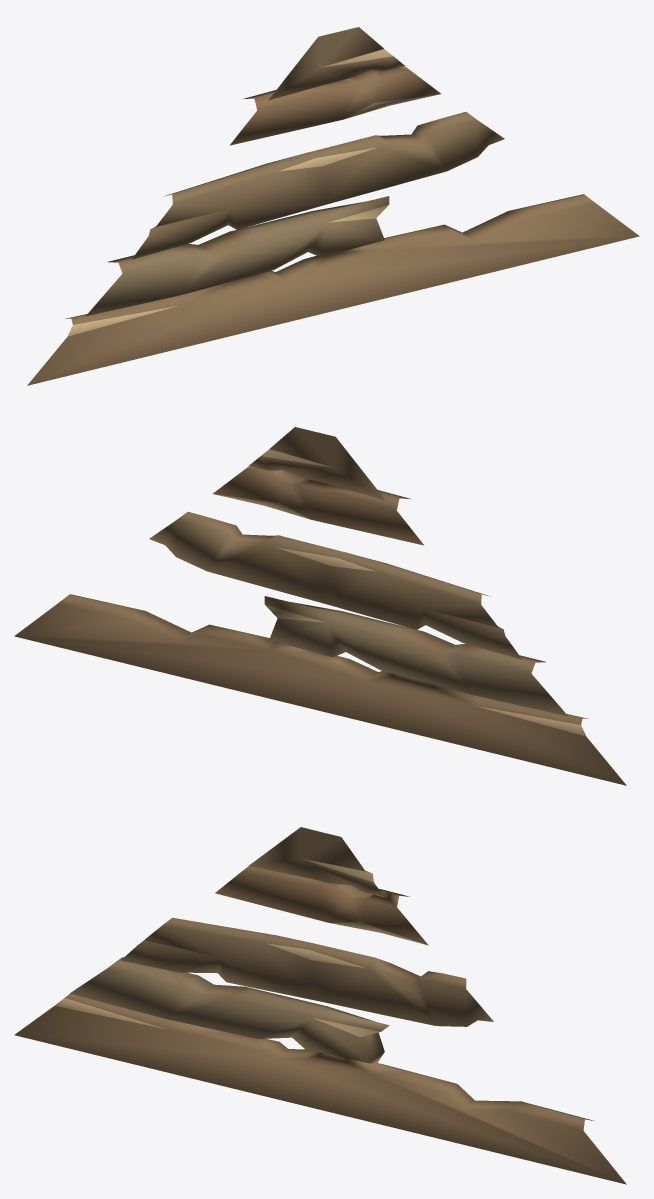
File: rpgpp_av_roof_end_01_6x3_wall_01a.gltf
3 views of the same model, one above another, from view 1: azimuth 30°, elevation 25°; view 2: azimuth 150°, elevation 25°; view 3: azimuth 330°, elevation 25° (orthographic).
Visible parts, largest first — view 1: rpgpp_av_roof_end_01_6x3_wall_01a; view 2: rpgpp_av_roof_end_01_6x3_wall_01a; view 3: rpgpp_av_roof_end_01_6x3_wall_01a.
Boxes of the visible parts, bbox=[...] form: rpgpp_av_roof_end_01_6x3_wall_01a: bbox=[27, 27, 639, 385]; rpgpp_av_roof_end_01_6x3_wall_01a: bbox=[14, 427, 626, 785]; rpgpp_av_roof_end_01_6x3_wall_01a: bbox=[14, 827, 626, 1184].
Bounding box in the file's own units: 0.0678 × 0.0296 × 0.00383.
Materials: 1 (1 with a texture image).
